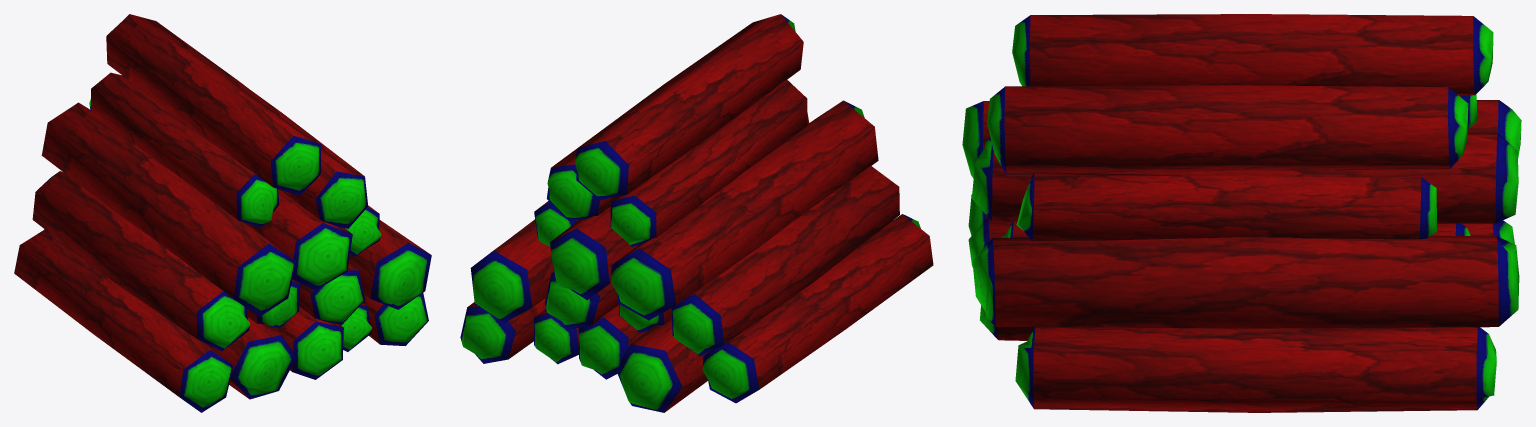
Rendered from LogPile01.fbx.
3 views of the same model, side by side, from view 1: azimuth 30°, elevation 25°; view 2: azimuth 150°, elevation 25°; view 3: azimuth 270°, elevation 25° (orthographic). The views are drawn at different scales.
Visible parts, largest first — view 1: LogPile01_LOD0; view 2: LogPile01_LOD0; view 3: LogPile01_LOD0.
Part boxes in pixels (left/top/right/bottom): LogPile01_LOD0: left=14, top=14, right=431, bottom=412; LogPile01_LOD0: left=460, top=14, right=933, bottom=412; LogPile01_LOD0: left=962, top=14, right=1521, bottom=412.
Size of what is drawn, in the model's own units: 0.5707 by 0.4875 by 0.7674.
